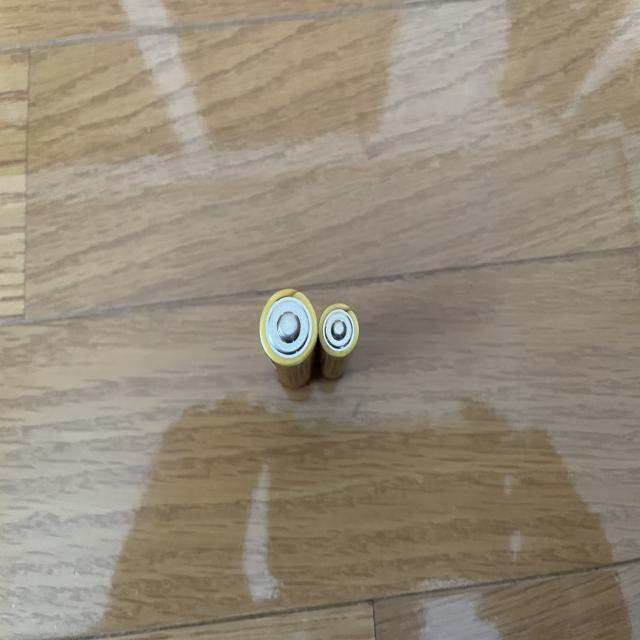hazardous waste: (258, 284, 318, 396), (315, 301, 362, 382)
